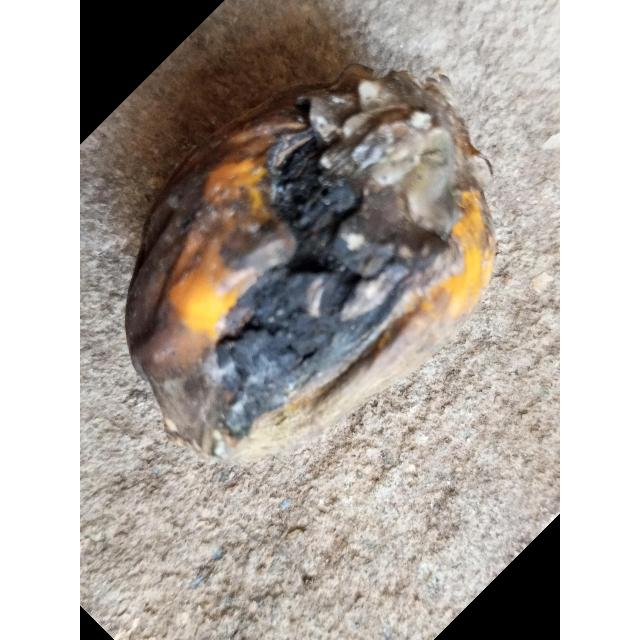damaged: (124, 57, 498, 483)
